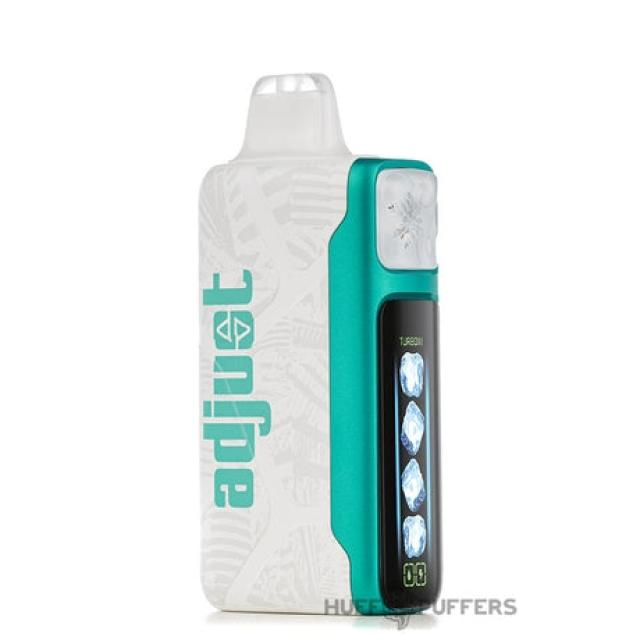Hazard: (195, 71, 442, 616)
